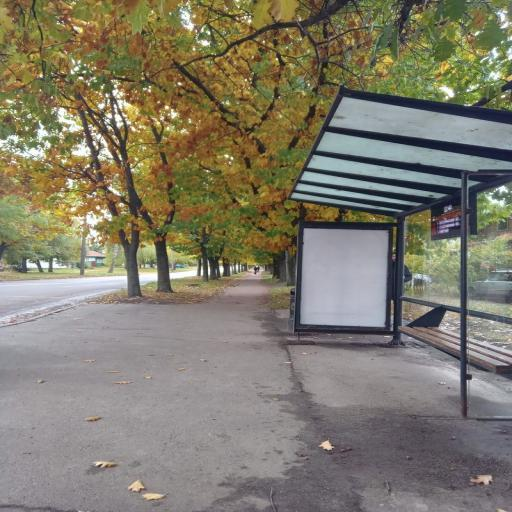book: (290, 88, 511, 417)
ramp: (0, 276, 126, 322)
shelf: (0, 276, 511, 511)
